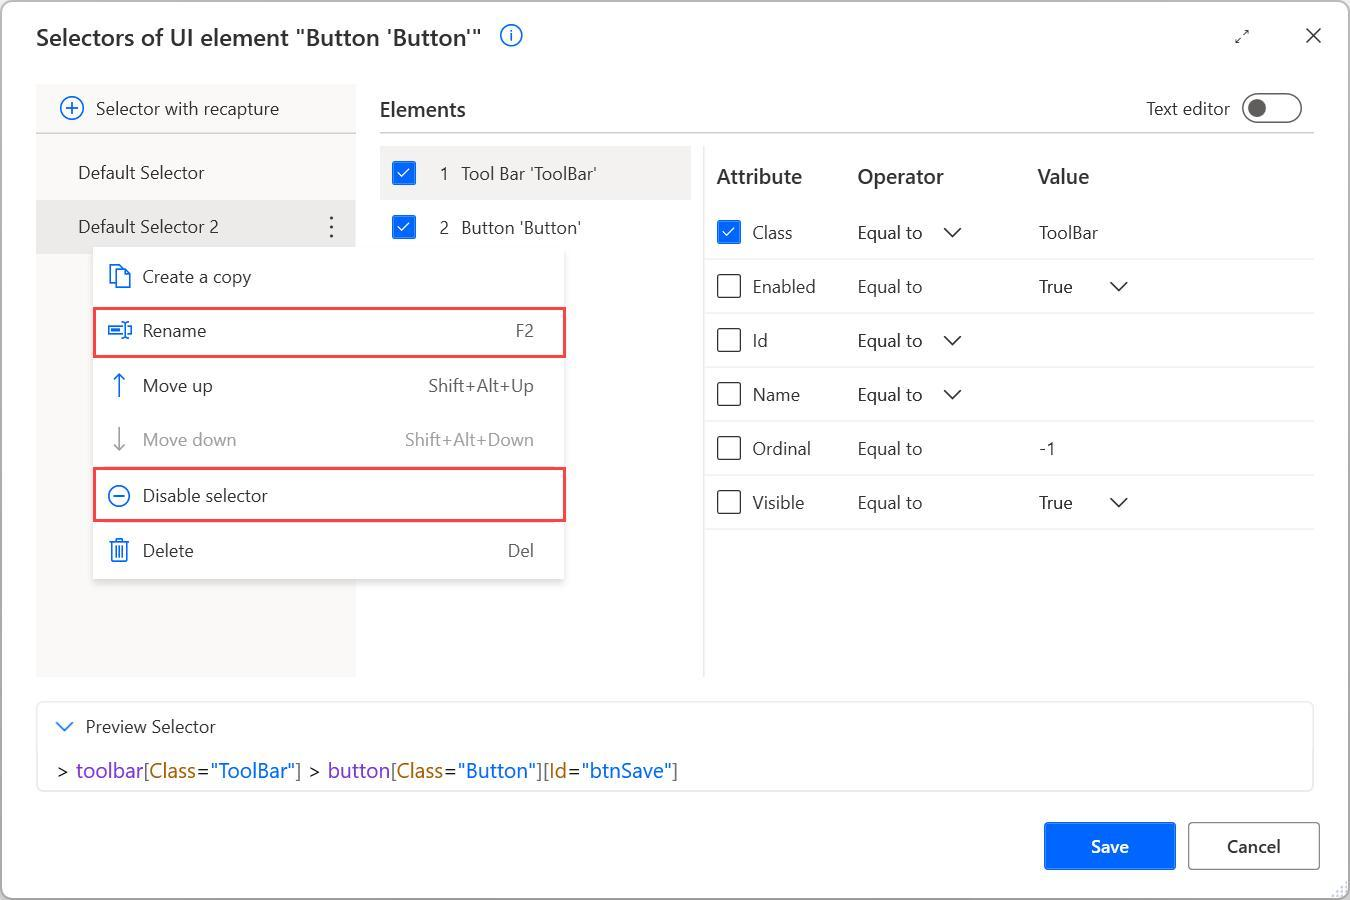button: (1046, 821, 1177, 871), (1188, 823, 1323, 871)
checkbox: (392, 215, 418, 239), (718, 222, 743, 246), (718, 275, 742, 299), (718, 328, 742, 353), (718, 437, 742, 461), (718, 491, 743, 514), (718, 384, 742, 406), (394, 161, 416, 185)
icon: (105, 261, 135, 292), (107, 534, 135, 566), (498, 24, 527, 51), (107, 483, 134, 510), (113, 368, 130, 403), (113, 422, 130, 455), (325, 214, 343, 245), (63, 100, 83, 119)
label: (32, 22, 486, 57), (98, 98, 287, 124), (437, 165, 607, 189), (436, 220, 587, 240), (1145, 97, 1234, 125)
switch: (1243, 94, 1304, 124)
